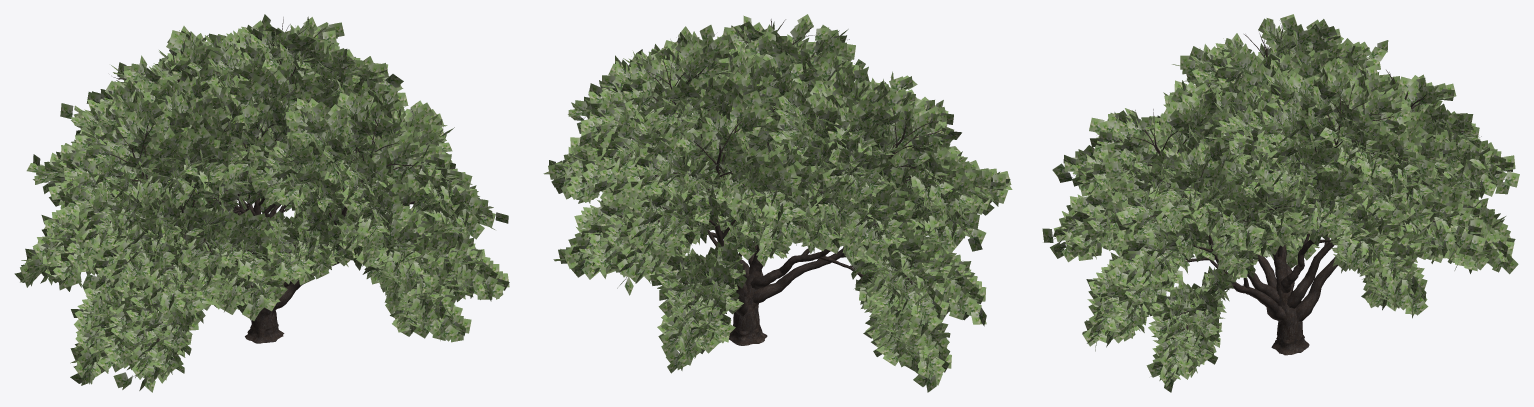
File: FBX_WE17_QuercusAgrifolia_6.fbx
The picture shows the model from 3 angles, left to right: view 1: azimuth 30°, elevation 25°; view 2: azimuth 150°, elevation 25°; view 3: azimuth 270°, elevation 25°; orthographic projection. The views are drawn at different scales.
Parts seen in each view (by area): view 1: Leaf01_6, Bark01_6; view 2: Leaf01_6, Bark01_6; view 3: Leaf01_6, Bark01_6.
Part boxes in pixels (bbox=[...]): Leaf01_6: bbox=[14, 14, 509, 392]; Bark01_6: bbox=[33, 17, 486, 379]; Leaf01_6: bbox=[543, 14, 1012, 392]; Bark01_6: bbox=[564, 19, 982, 348]; Leaf01_6: bbox=[1042, 14, 1519, 392]; Bark01_6: bbox=[1052, 23, 1504, 371].
Bounding box in the file's own units: 3732 × 2672 × 3865.
